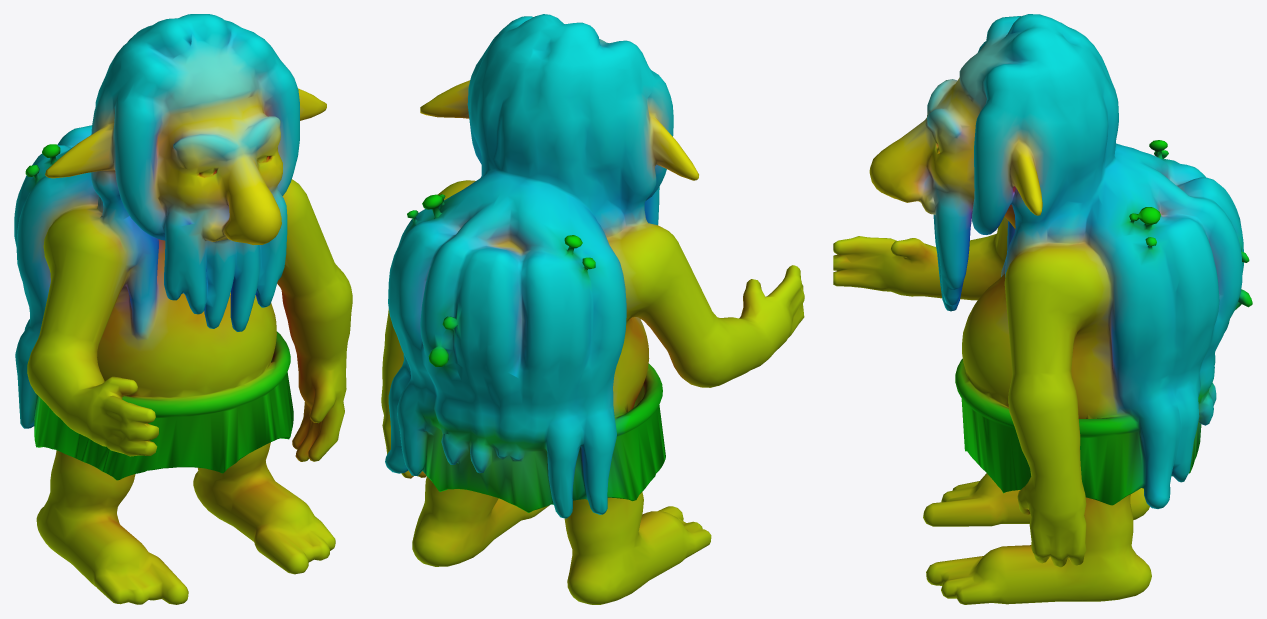
File: troll-lod1.glb
3 renders of one model, left to right at view 1: azimuth 30°, elevation 25°; view 2: azimuth 150°, elevation 25°; view 3: azimuth 270°, elevation 25°, orthographic.
Visible parts, largest first — view 1: TrollLOD1; view 2: TrollLOD1; view 3: TrollLOD1.
Part boxes in pixels (<box>): TrollLOD1: <box>14,14,352,604</box>; TrollLOD1: <box>381,14,804,604</box>; TrollLOD1: <box>833,14,1252,604</box>.
Size of the model in its own units: 0.6651 by 1.01 by 0.7243.
